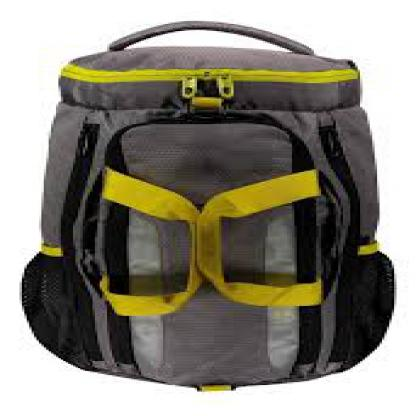morral: (22, 10, 406, 399)
